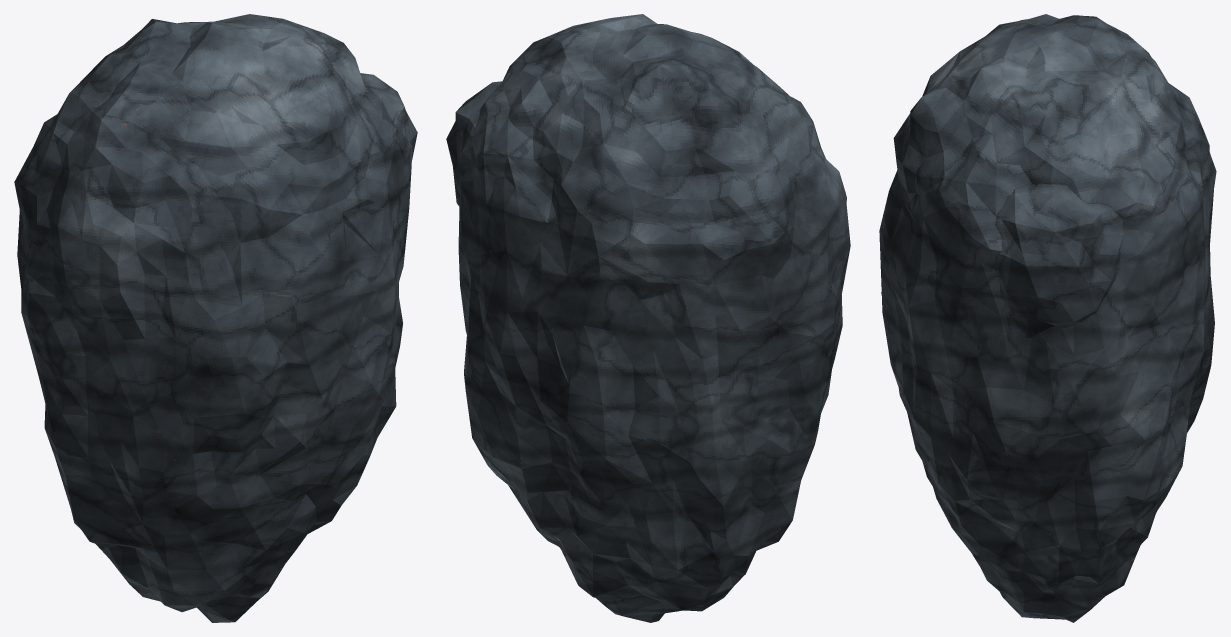
File: ramp_snow_rock_big_a.glb
3 views of the same model, side by side, from view 1: azimuth 30°, elevation 25°; view 2: azimuth 150°, elevation 25°; view 3: azimuth 270°, elevation 25° (orthographic).
Parts seen in each view (by area): view 1: ramp_snow_rock_big_a; view 2: ramp_snow_rock_big_a; view 3: ramp_snow_rock_big_a.
Part boxes in pixels (x1=…): ramp_snow_rock_big_a: x1=14, y1=14, x2=417, y2=622; ramp_snow_rock_big_a: x1=446, y1=14, x2=850, y2=622; ramp_snow_rock_big_a: x1=879, y1=14, x2=1216, y2=622.
Bounding box in the file's own units: 2 × 2.98 × 1.54.
Materials: 1 (1 with a texture image).
